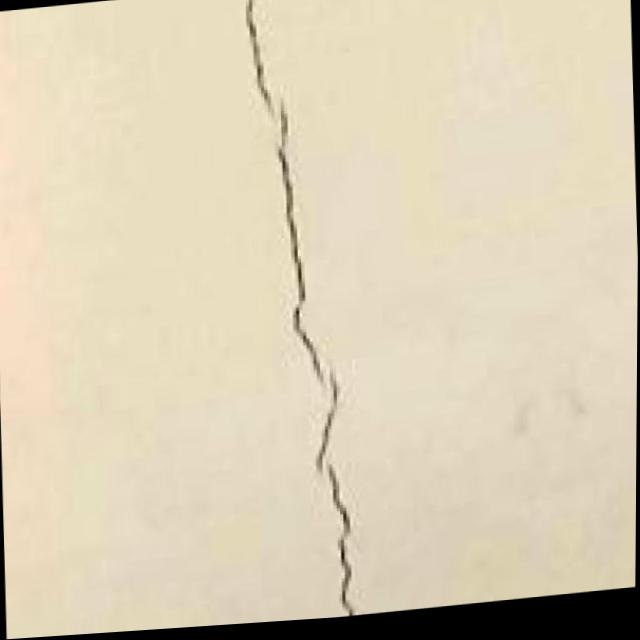Crack: (209, 0, 383, 629)
